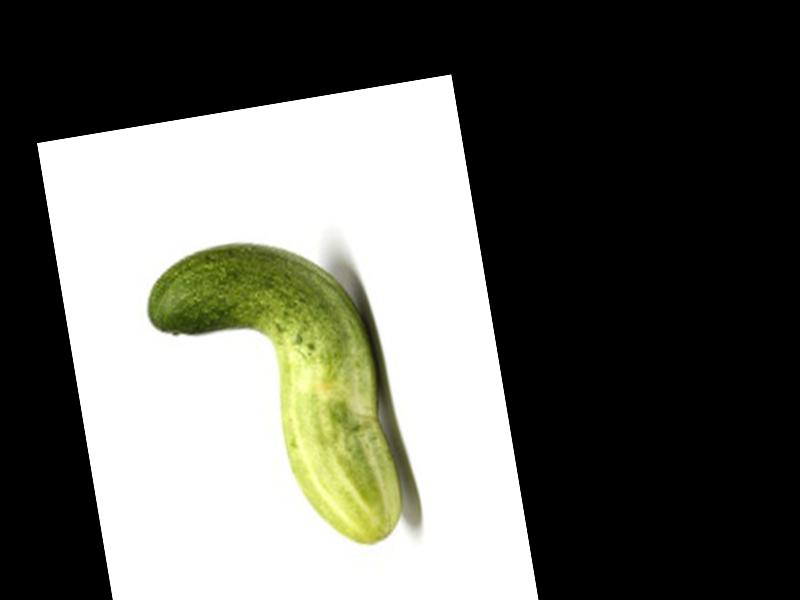Cucumber: (139, 222, 410, 574)
